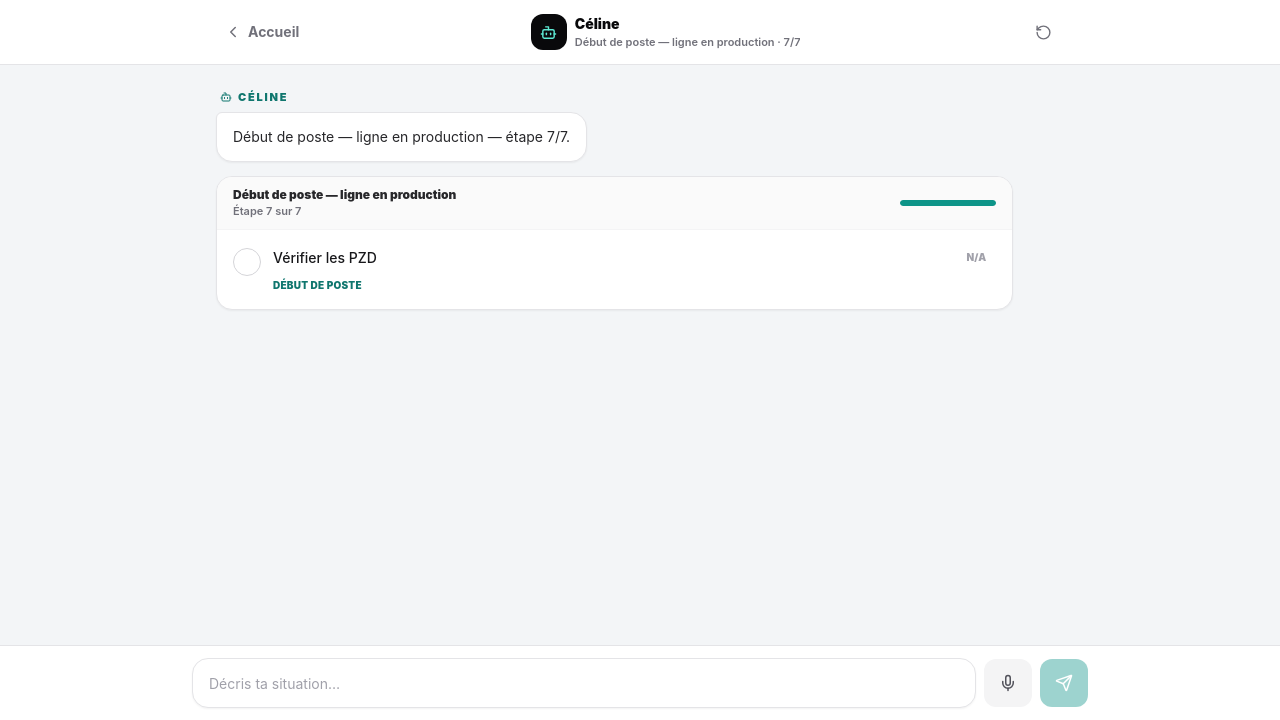
Test: CelinePage conversation request lifecycle › still auto-advances exactly once after the operator completes the current focused checklist
What coordinates should you click on to do the following:
click the button named "Valider : Vérifier les PZD"
I would click on:
 (247, 262)
Its box is [233,248,261,276].
Wait 400 ms
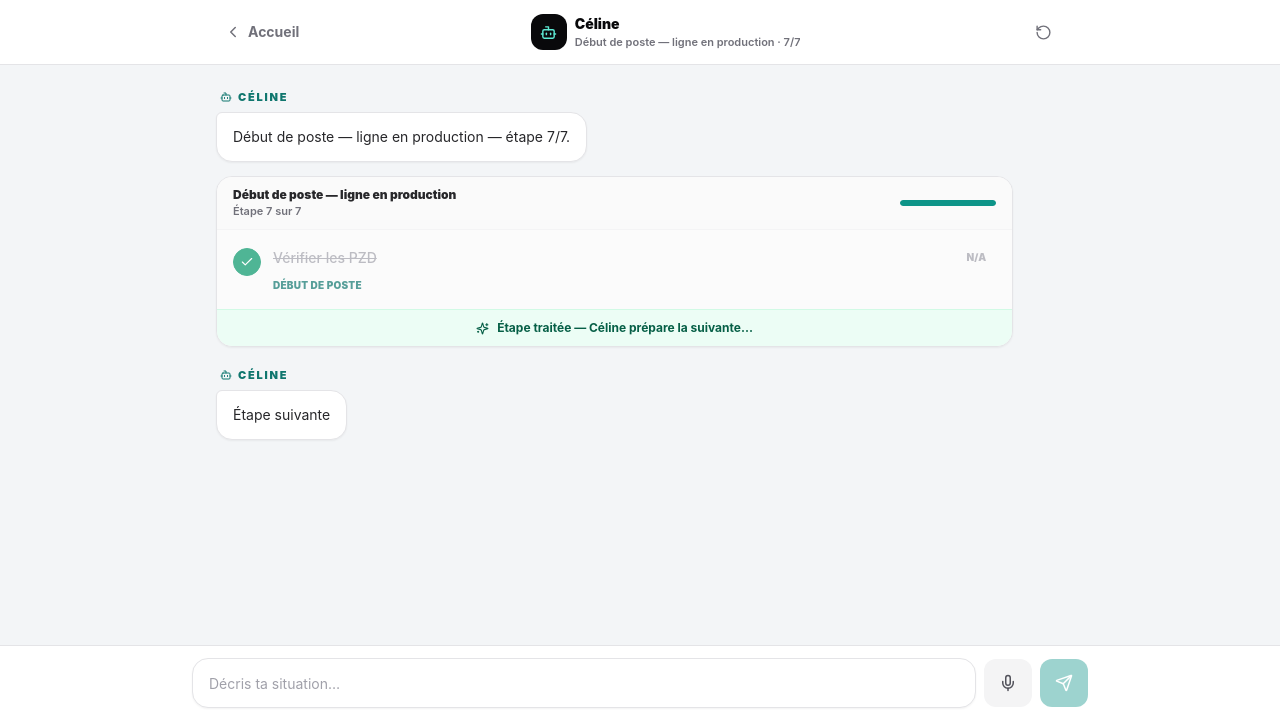
Check: the text "Étape suivante" is shown, box [216,390,347,440]
